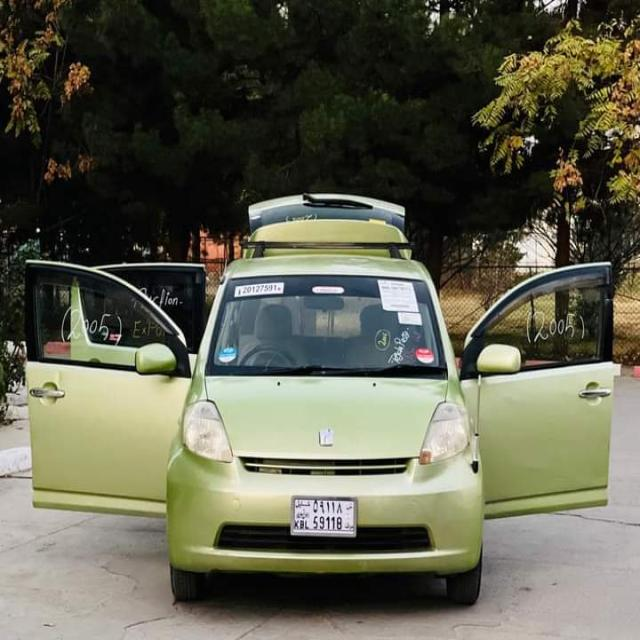Plate: (292, 498, 354, 536)
